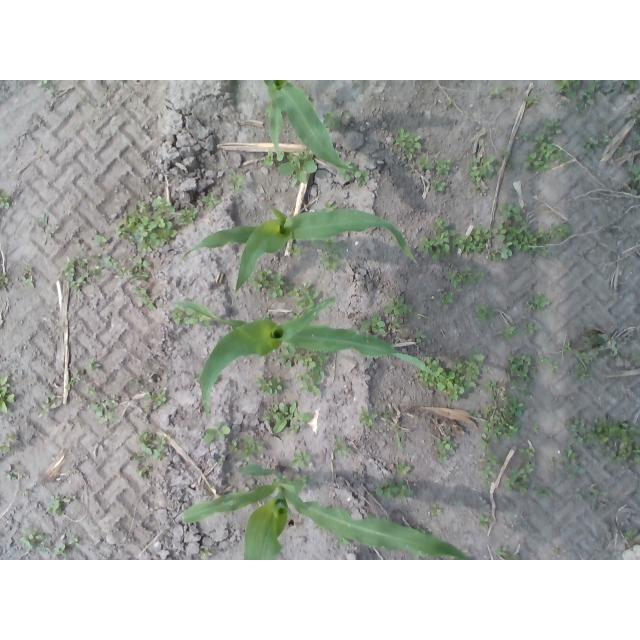Maize: (175, 296, 462, 413), (178, 462, 477, 560), (184, 205, 416, 300), (260, 80, 364, 172)
Weeds: (114, 195, 178, 254), (586, 417, 640, 467), (488, 219, 550, 262), (483, 390, 525, 443), (448, 351, 490, 402), (524, 134, 568, 173), (263, 401, 313, 435), (295, 350, 330, 398), (553, 81, 600, 116), (278, 150, 318, 187), (507, 352, 538, 397), (415, 357, 454, 391), (314, 236, 347, 273), (62, 250, 91, 290), (419, 229, 456, 260), (285, 282, 319, 315), (248, 267, 284, 298), (453, 226, 492, 254), (394, 127, 423, 161), (507, 463, 534, 498), (136, 430, 166, 461), (172, 305, 212, 328), (480, 437, 501, 479), (374, 478, 414, 500), (340, 160, 371, 188), (89, 396, 119, 424), (91, 252, 125, 276), (448, 266, 485, 288), (467, 154, 496, 182), (19, 528, 50, 552), (131, 285, 157, 311), (321, 110, 351, 131), (204, 421, 231, 444), (582, 333, 610, 355), (573, 349, 592, 381), (622, 164, 640, 197), (1, 375, 16, 414), (128, 256, 152, 280), (239, 437, 263, 461), (360, 316, 387, 337), (434, 435, 455, 462), (278, 343, 301, 367), (523, 293, 550, 313), (256, 375, 283, 395), (567, 415, 586, 443), (383, 298, 414, 315), (55, 531, 78, 553), (228, 170, 247, 195), (498, 203, 522, 222), (289, 450, 311, 470), (145, 388, 168, 407), (578, 136, 598, 157), (358, 406, 379, 426), (176, 206, 198, 225), (549, 221, 571, 240), (476, 305, 496, 324), (565, 464, 588, 480), (332, 437, 352, 455), (497, 545, 521, 560), (48, 497, 65, 518), (543, 117, 562, 135), (200, 192, 220, 209), (38, 394, 55, 414), (263, 150, 284, 166), (560, 443, 578, 461), (293, 473, 311, 491), (585, 485, 608, 499), (415, 154, 434, 170), (436, 158, 453, 175), (439, 292, 455, 309), (502, 324, 519, 340), (35, 81, 53, 96), (622, 81, 640, 96), (432, 218, 452, 231), (430, 178, 446, 194), (396, 461, 412, 476), (0, 433, 12, 452), (20, 274, 36, 288), (2, 466, 15, 483), (287, 243, 302, 257), (523, 94, 539, 107), (518, 447, 536, 458), (599, 133, 613, 147), (93, 234, 108, 247), (322, 202, 339, 213), (622, 529, 639, 540), (200, 546, 213, 560), (0, 271, 10, 289), (66, 375, 78, 390), (0, 189, 8, 211), (416, 526, 432, 537), (478, 516, 491, 529), (88, 358, 101, 371), (562, 341, 574, 355), (428, 503, 442, 515), (414, 331, 427, 343), (526, 322, 538, 335), (628, 106, 640, 119), (140, 465, 153, 477), (336, 537, 353, 546), (483, 379, 496, 390), (536, 489, 549, 500), (550, 361, 561, 374), (132, 453, 145, 464), (229, 438, 239, 452), (537, 355, 549, 365), (632, 132, 640, 147), (128, 380, 143, 388), (396, 435, 405, 448), (39, 215, 49, 226), (489, 85, 500, 95), (314, 523, 327, 531), (84, 386, 97, 394), (391, 317, 401, 327), (293, 309, 303, 319), (259, 312, 270, 321), (265, 103, 272, 116), (611, 346, 620, 355), (194, 371, 203, 380), (533, 422, 540, 433), (412, 312, 421, 320), (473, 185, 482, 193), (521, 132, 530, 140), (548, 457, 555, 467), (365, 513, 375, 520), (632, 354, 640, 362), (501, 149, 511, 155), (506, 160, 514, 167), (455, 498, 463, 504), (245, 487, 250, 492)
